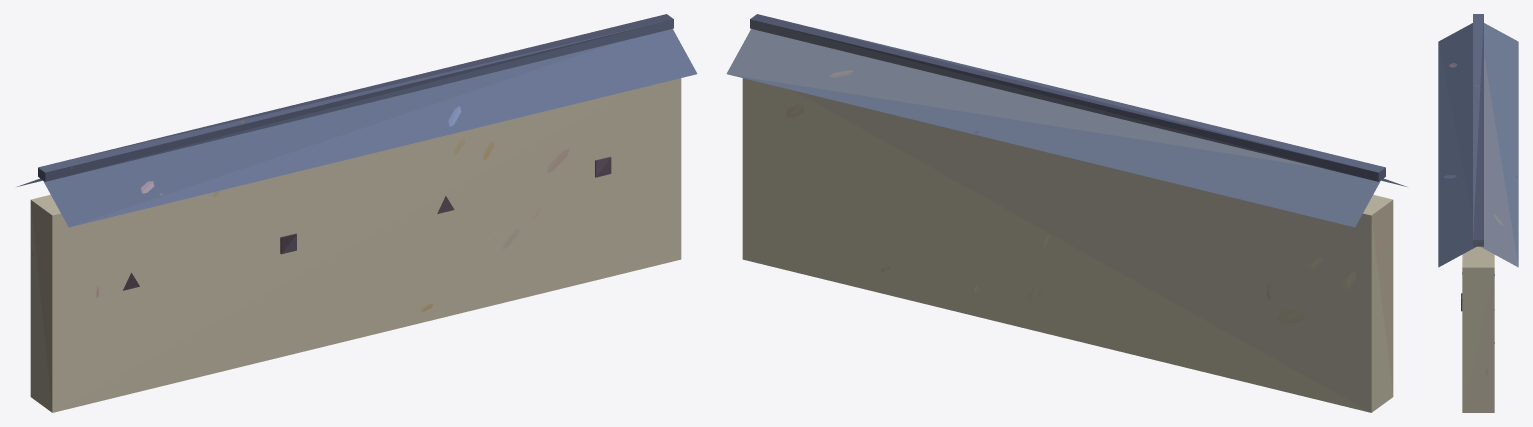
File: HK_CastleWall.lod.glb
The picture shows the model from 3 angles, left to right: view 1: azimuth 30°, elevation 25°; view 2: azimuth 150°, elevation 25°; view 3: azimuth 270°, elevation 25°; orthographic projection. The views are drawn at different scales.
Parts seen in each view (by area): view 1: HK_CastleWall; view 2: HK_CastleWall; view 3: HK_CastleWall.
Boxes of the visible parts, x1=… form: HK_CastleWall: x1=17, y1=14, x2=697, y2=412; HK_CastleWall: x1=726, y1=14, x2=1406, y2=412; HK_CastleWall: x1=1438, y1=14, x2=1518, y2=412.
Size of the model in its own units: 10.01 by 3.57 by 1.5.
